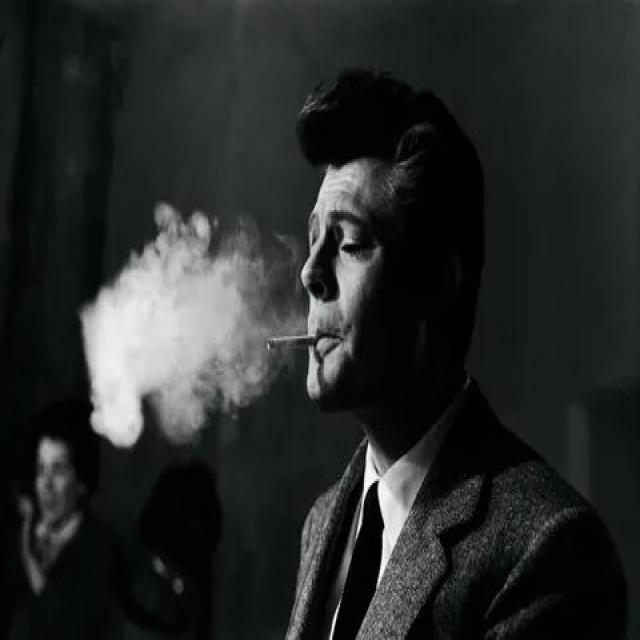cigarette: (260, 326, 327, 357)
